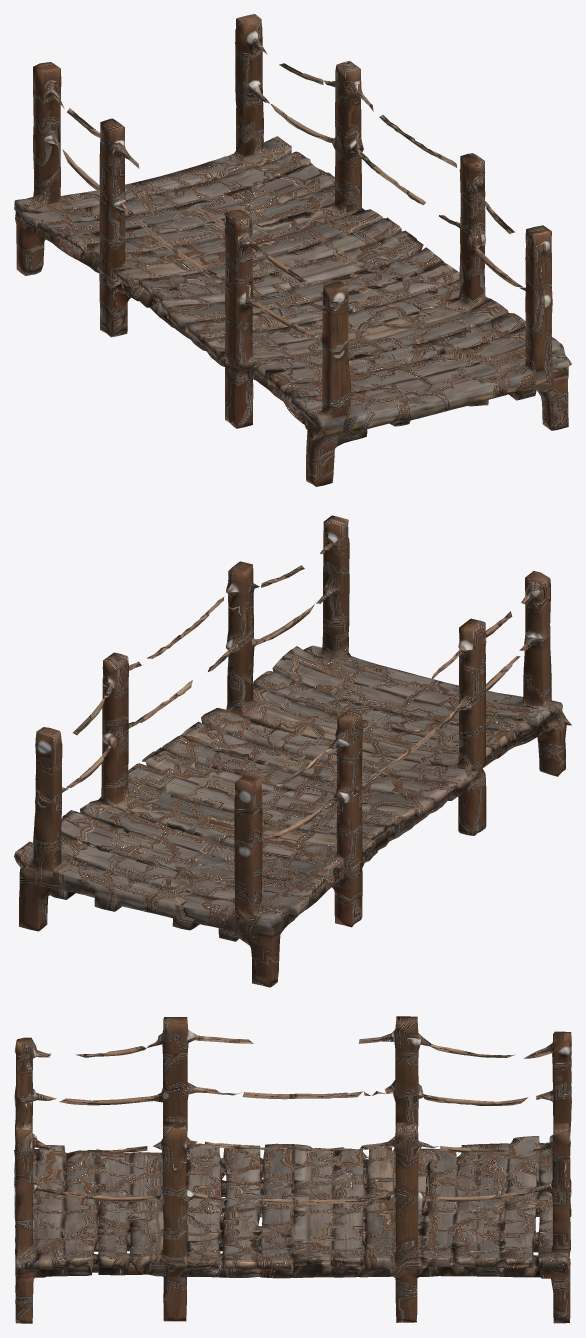
The model's file is bridge.glb.
3 renders of one model, top to bottom at view 1: azimuth 30°, elevation 25°; view 2: azimuth 150°, elevation 25°; view 3: azimuth 270°, elevation 25°, orthographic. The views are drawn at different scales.
Bounding box in the file's own units: 1.05 × 0.7669 × 2.
Materials: 1 (1 with a texture image).
